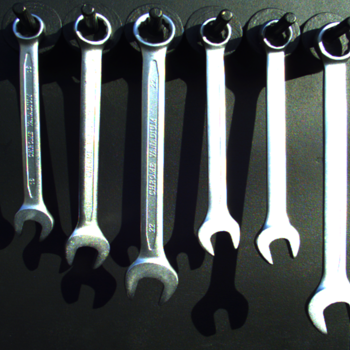bottom: (122, 256, 178, 308), (304, 278, 350, 337), (254, 221, 301, 267), (61, 228, 111, 271), (194, 214, 243, 257), (13, 201, 55, 242)
top: (131, 9, 177, 52), (313, 19, 350, 66), (71, 10, 114, 49), (258, 16, 295, 53), (197, 15, 233, 50), (10, 11, 47, 44)
